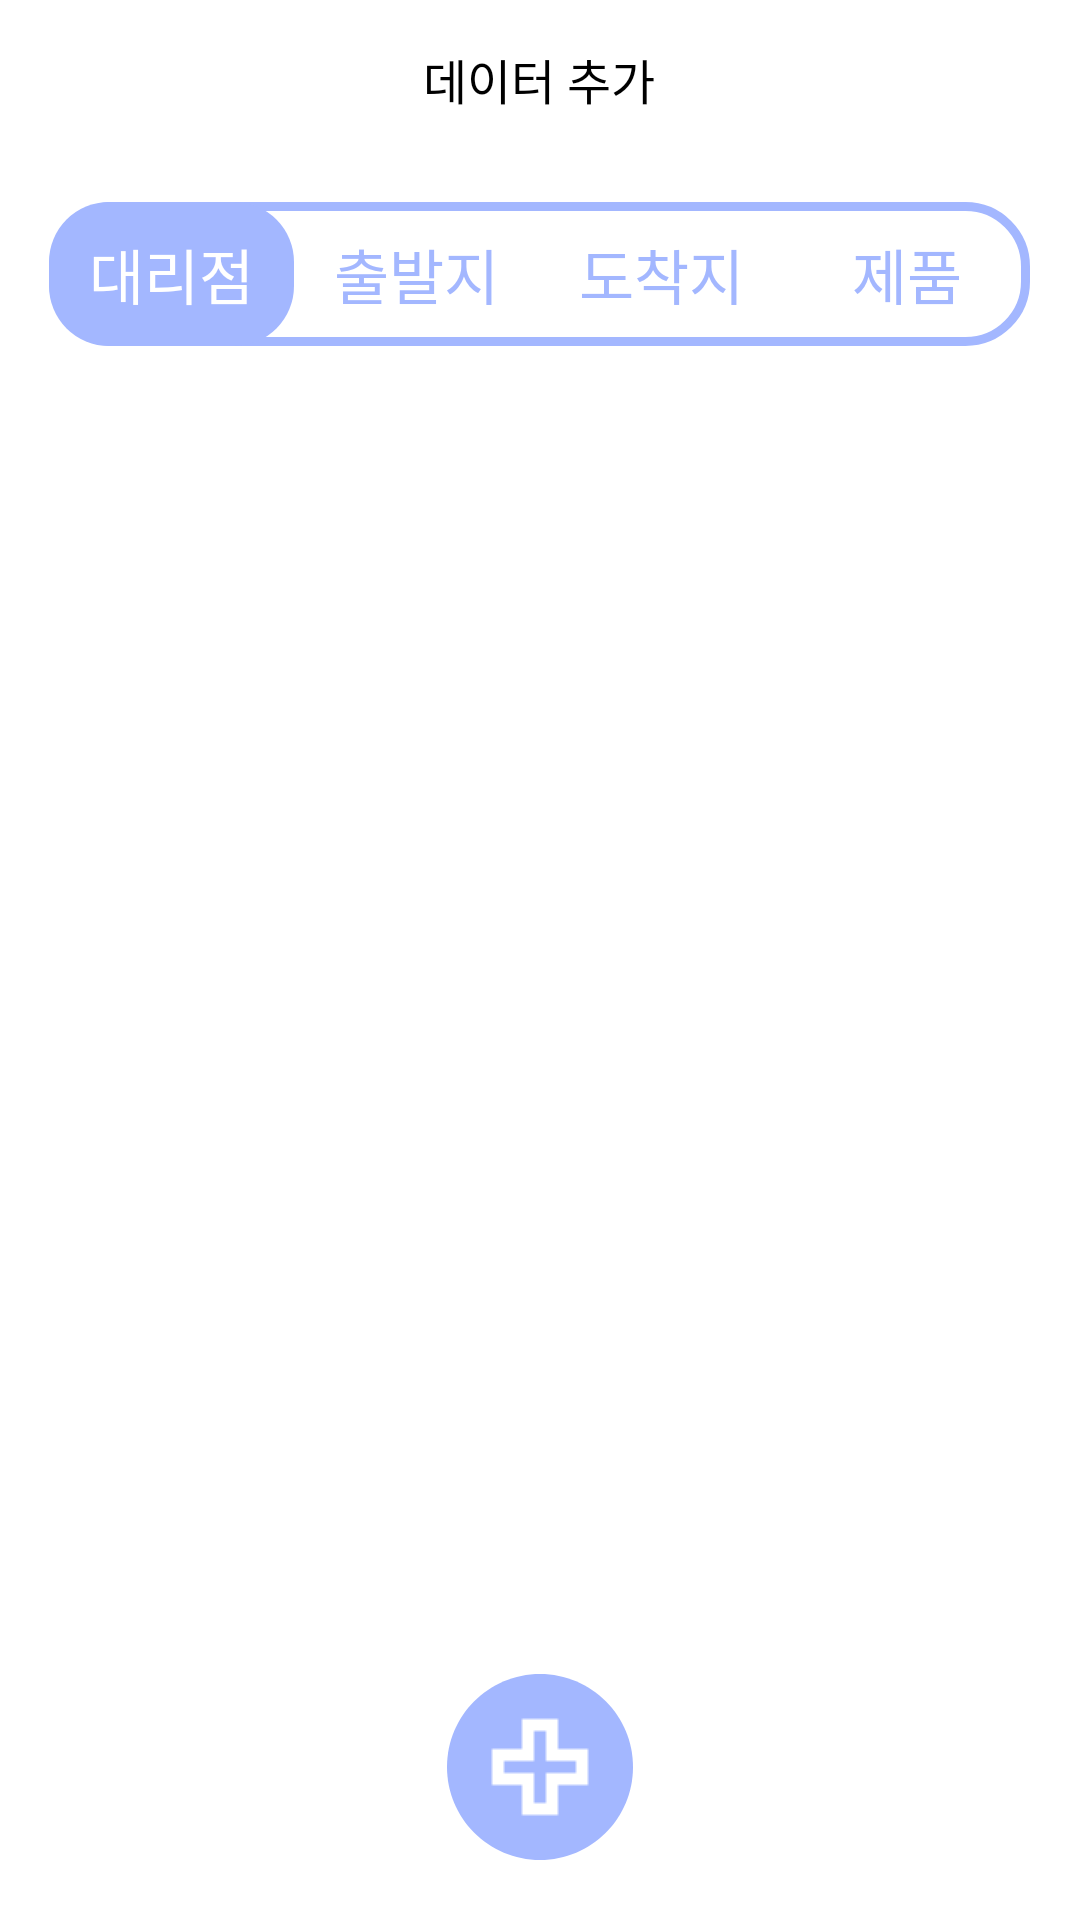

Where icons sit on this 1080x1920 app screen, as (x1, y1, x2, y2):
add: (491, 1718, 589, 1816)
